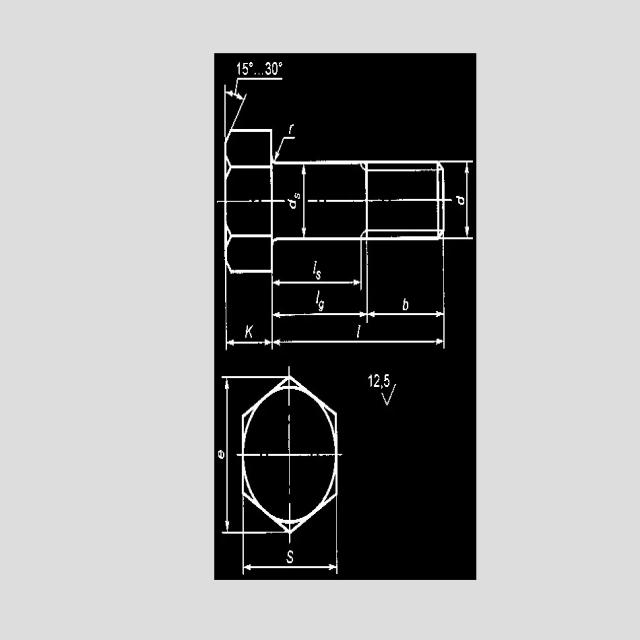marking_line: (221, 76, 287, 129), (273, 338, 443, 347), (273, 278, 359, 290), (273, 309, 366, 319), (224, 380, 230, 532), (299, 165, 310, 237), (273, 133, 299, 161), (245, 564, 337, 571), (228, 338, 272, 352), (368, 310, 444, 318), (465, 163, 470, 238)
numeric: (363, 368, 392, 391), (265, 58, 280, 77), (235, 61, 249, 76)
special_symbol: (377, 390, 405, 409), (278, 60, 285, 69), (249, 61, 254, 68)
